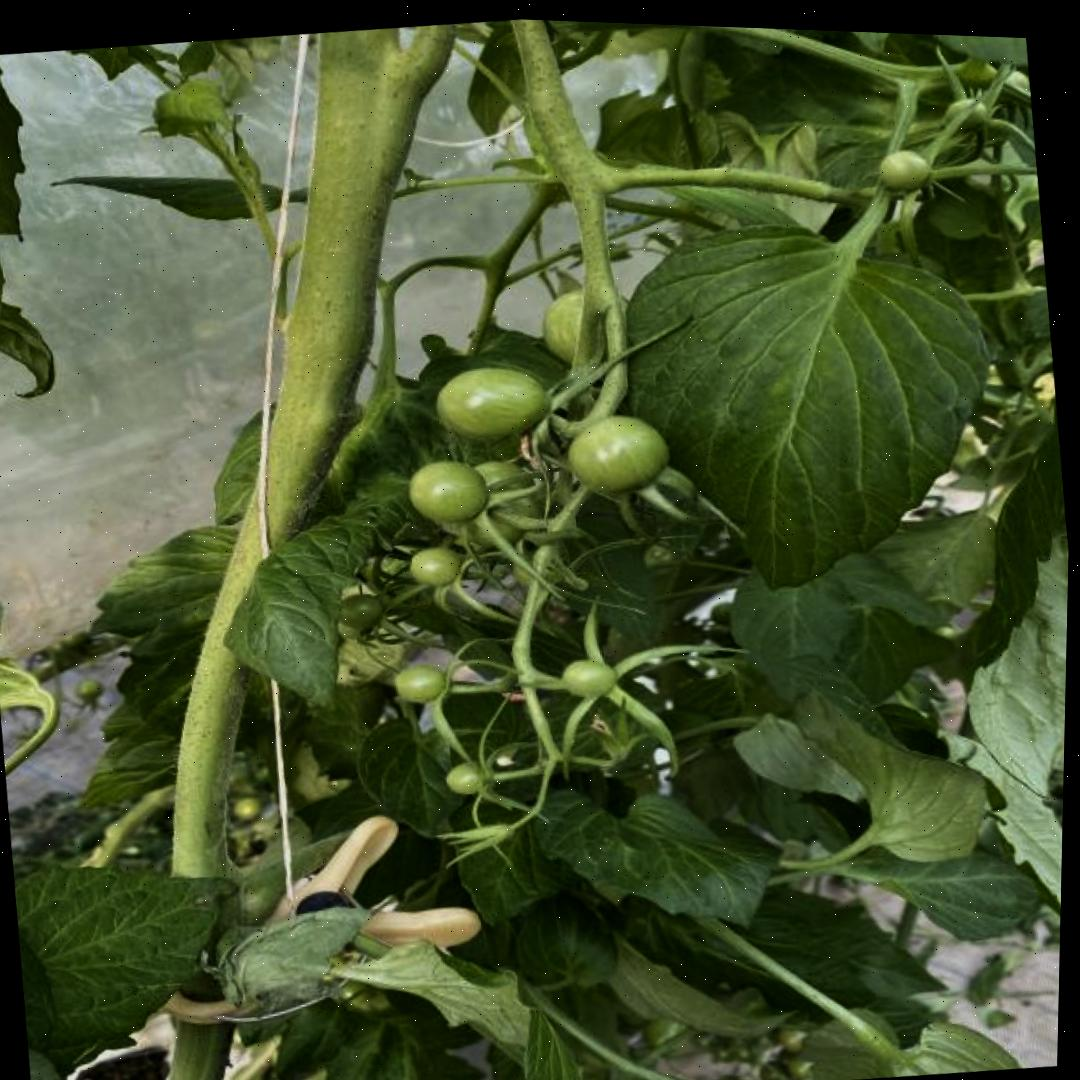mentah: (428, 355, 556, 448), (557, 409, 678, 498), (401, 454, 493, 528), (553, 655, 618, 705), (389, 660, 457, 705), (405, 540, 466, 590), (872, 147, 937, 192)
